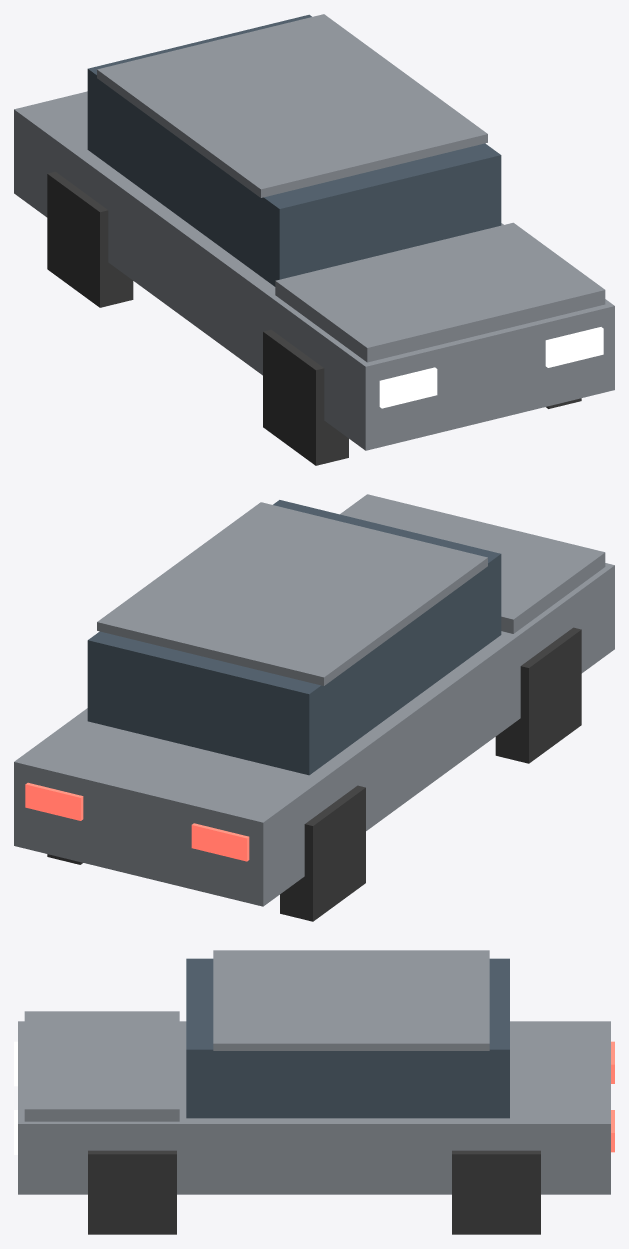
File: car-3.glb
3 renders of one model, top to bottom at view 1: azimuth 30°, elevation 25°; view 2: azimuth 150°, elevation 25°; view 3: azimuth 270°, elevation 25°, orthographic. The views are drawn at different scales.
Bounding box in the file's own units: 1.92 × 1.5 × 4.46.
